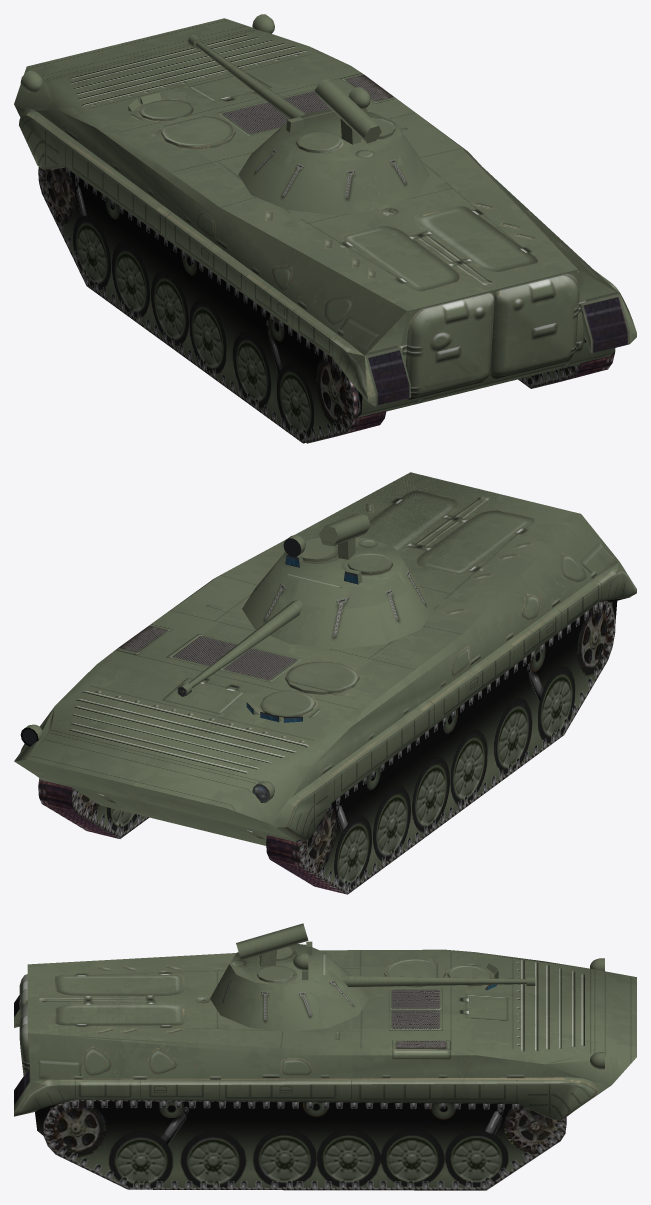
Rendered from BMP-2_Green.dae.
3 renders of one model, top to bottom at view 1: azimuth 30°, elevation 25°; view 2: azimuth 150°, elevation 25°; view 3: azimuth 270°, elevation 25°, orthographic. The views are drawn at different scales.
Parts seen in each view (by area): view 1: hull, lft_cleat_6, hull_11, hull_19, turret_4, aft_door_01, aft_door_02, commander_coupola, aft_door_3, turret_8, agtm, aft_door_2 (+4 smaller); view 2: hull, lft_cleat_6, hull_11, turret_4, hull_19, rgt_cleat, commander_coupola, barrel_8, driver_coupola_1, agtm, lft_cleat_hi, rgt_cleat_4 (+4 smaller); view 3: hull, rgt_cleat_4, hull_11, hull_19, turret_4, barrel_8, agtm, commander_coupola, turret_8, aft_door_02, driver_coupola_27, driver_coupola_1.
Boxes of the visible parts, x1,y1,x2,y2 form: hull: (14, 18, 636, 406); lft_cleat_6: (38, 167, 382, 443); hull_11: (14, 22, 614, 417); hull_19: (213, 165, 619, 417); turret_4: (238, 110, 430, 215); aft_door_01: (405, 293, 494, 397); aft_door_02: (490, 275, 579, 376); commander_coupola: (161, 115, 235, 149); aft_door_3: (511, 293, 573, 352); turret_8: (280, 112, 402, 157); agtm: (315, 78, 381, 143); aft_door_2: (420, 311, 487, 385); hull: (20, 472, 636, 842); lft_cleat_6: (273, 601, 615, 894); hull_11: (14, 473, 630, 845); turret_4: (242, 537, 433, 649); hull_19: (15, 514, 619, 837); rgt_cleat: (42, 781, 149, 838); commander_coupola: (285, 660, 359, 694); barrel_8: (188, 598, 302, 688); driver_coupola_1: (260, 690, 313, 717); agtm: (319, 513, 370, 546); lft_cleat_hi: (266, 835, 342, 893); rgt_cleat_4: (38, 778, 114, 837); hull: (14, 949, 636, 1119); rgt_cleat_4: (43, 1099, 566, 1190); hull_11: (14, 950, 636, 1135); hull_19: (27, 1033, 608, 1119); turret_4: (210, 944, 368, 1032); barrel_8: (341, 975, 526, 987); agtm: (236, 923, 308, 960); commander_coupola: (384, 959, 445, 987); turret_8: (230, 950, 330, 982); aft_door_02: (19, 1003, 29, 1075); driver_coupola_27: (257, 965, 294, 983); driver_coupola_1: (448, 966, 492, 986).
Size of the model in its own units: 2.74 by 6.64 by 2.49.
